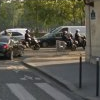crosswalk: (0, 82, 71, 100)
